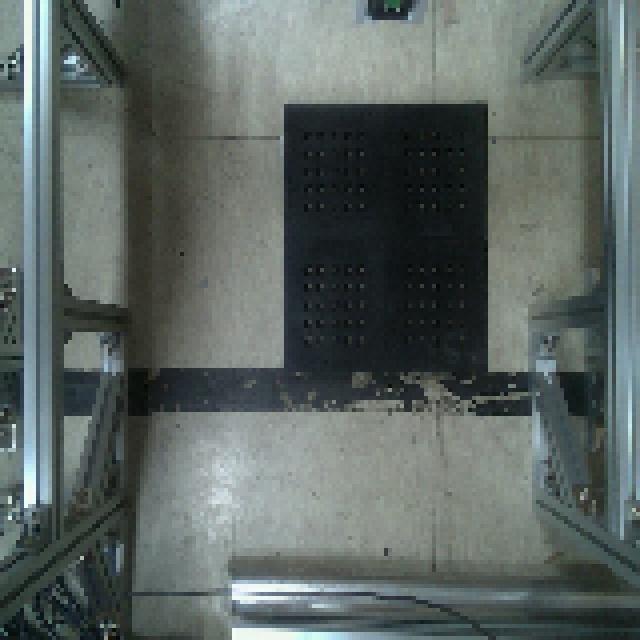pallet: (282, 96, 493, 379)
